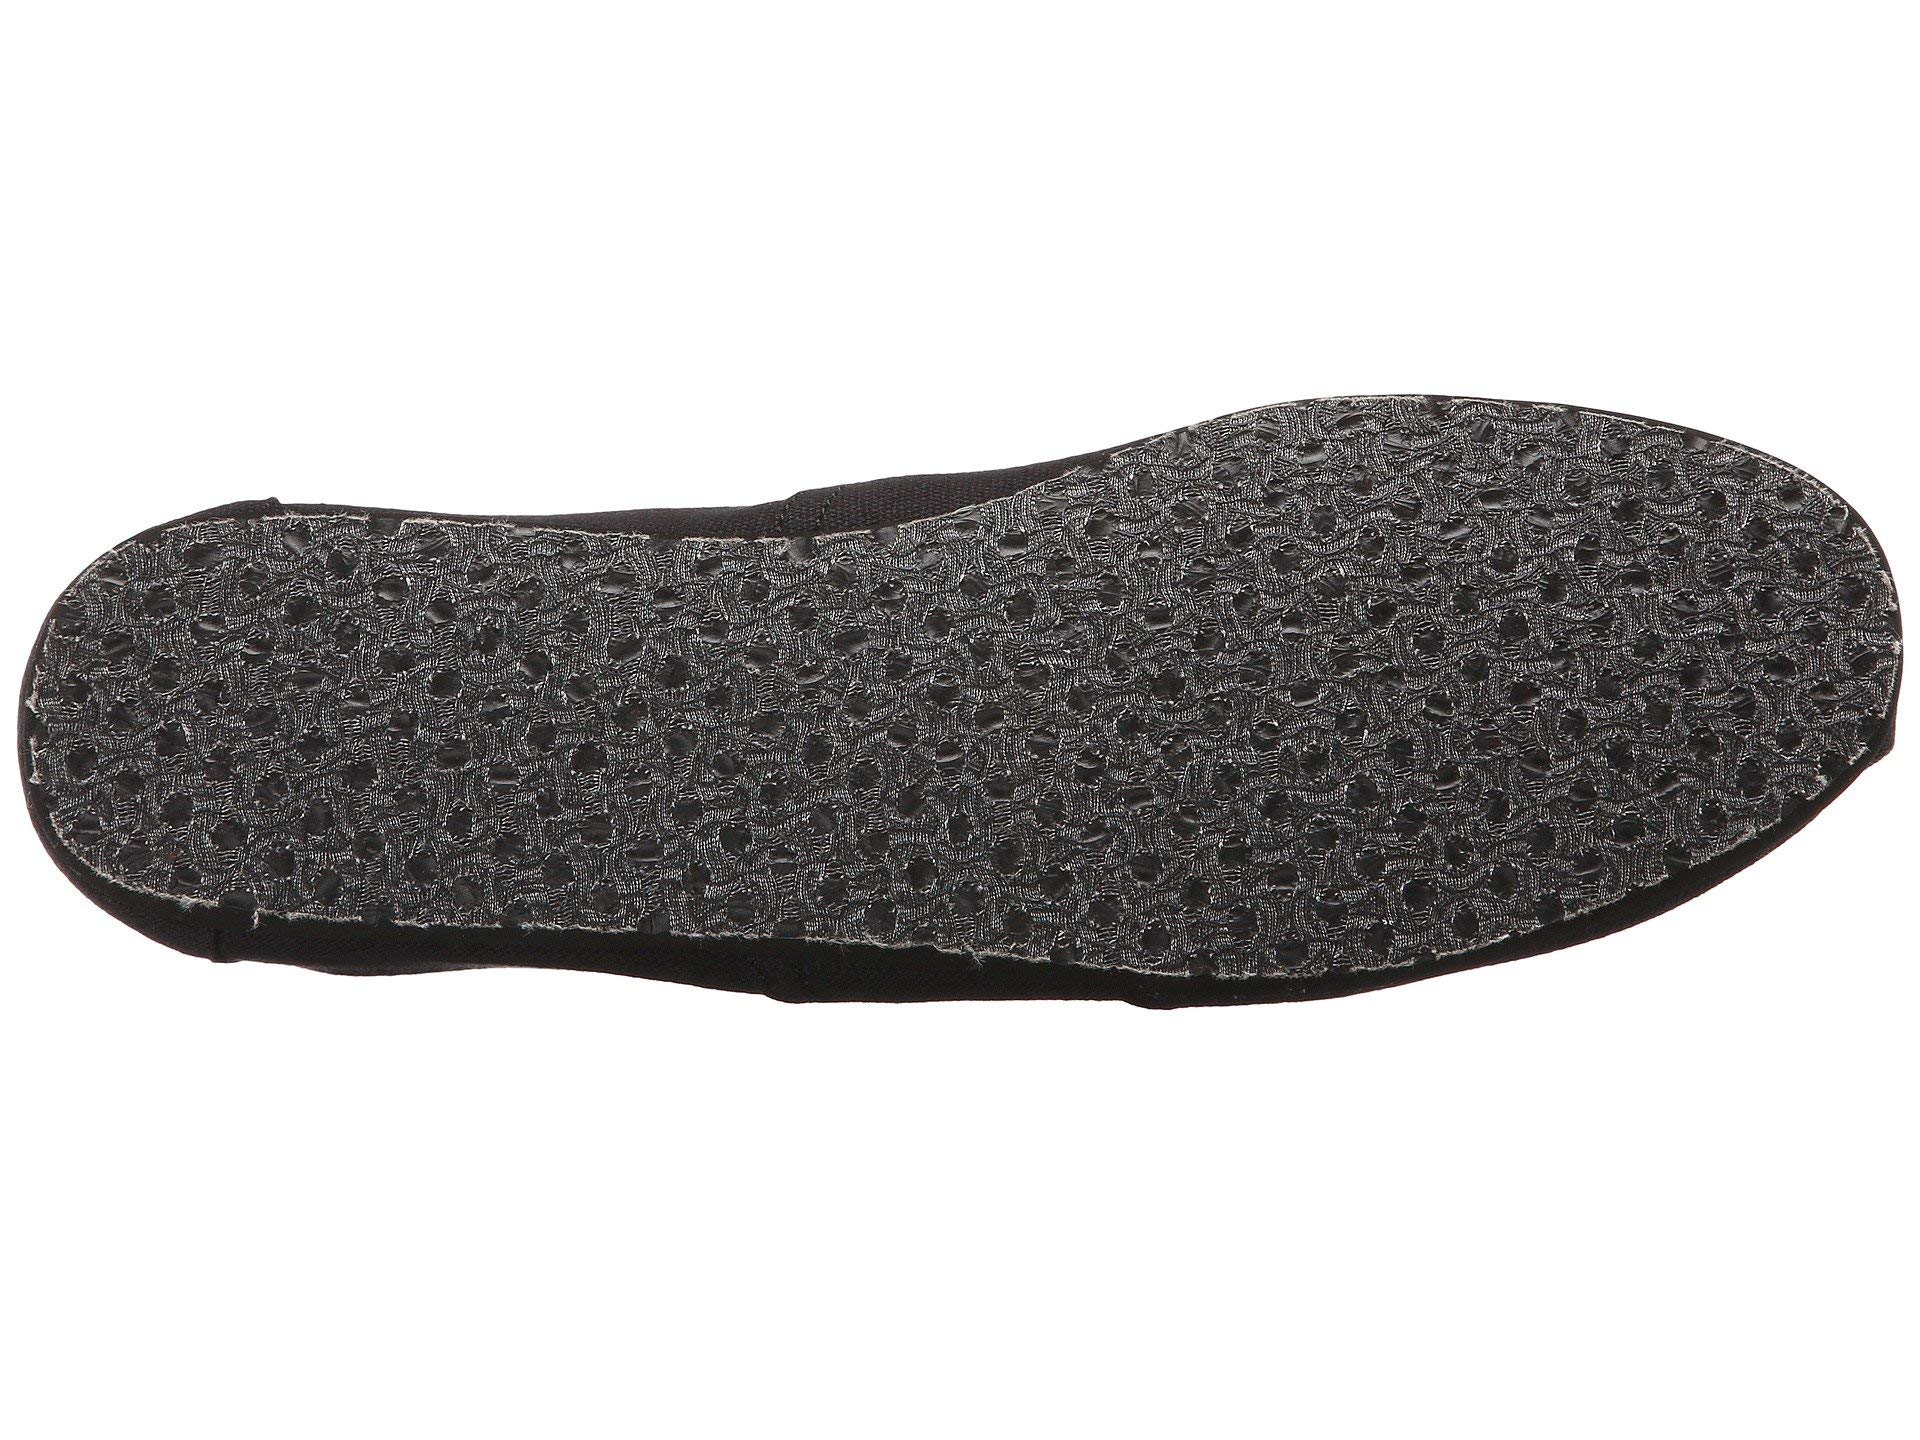circle: (165, 538, 1775, 814)
